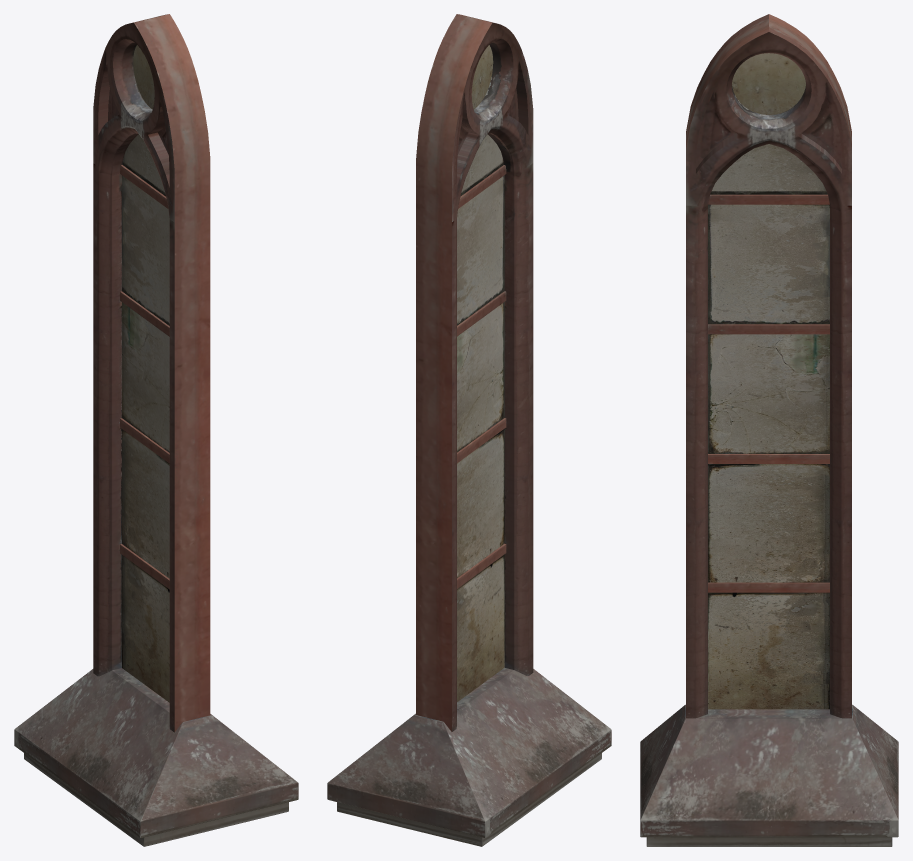
Rendered from sm_Window_01_03.fbx.
3 views of the same model, side by side, from view 1: azimuth 30°, elevation 25°; view 2: azimuth 150°, elevation 25°; view 3: azimuth 270°, elevation 25° (orthographic). The views are drawn at different scales.
Parts seen in each view (by area): view 1: sm_Window_01_03_LOD0; view 2: sm_Window_01_03_LOD0; view 3: sm_Window_01_03_LOD0.
Boxes of the visible parts, box(x1,y1,x2,y2) form: sm_Window_01_03_LOD0: box(14, 14, 298, 846); sm_Window_01_03_LOD0: box(327, 14, 611, 846); sm_Window_01_03_LOD0: box(640, 14, 898, 846).
Size of the model in its own units: 84.23 by 116 by 390.
